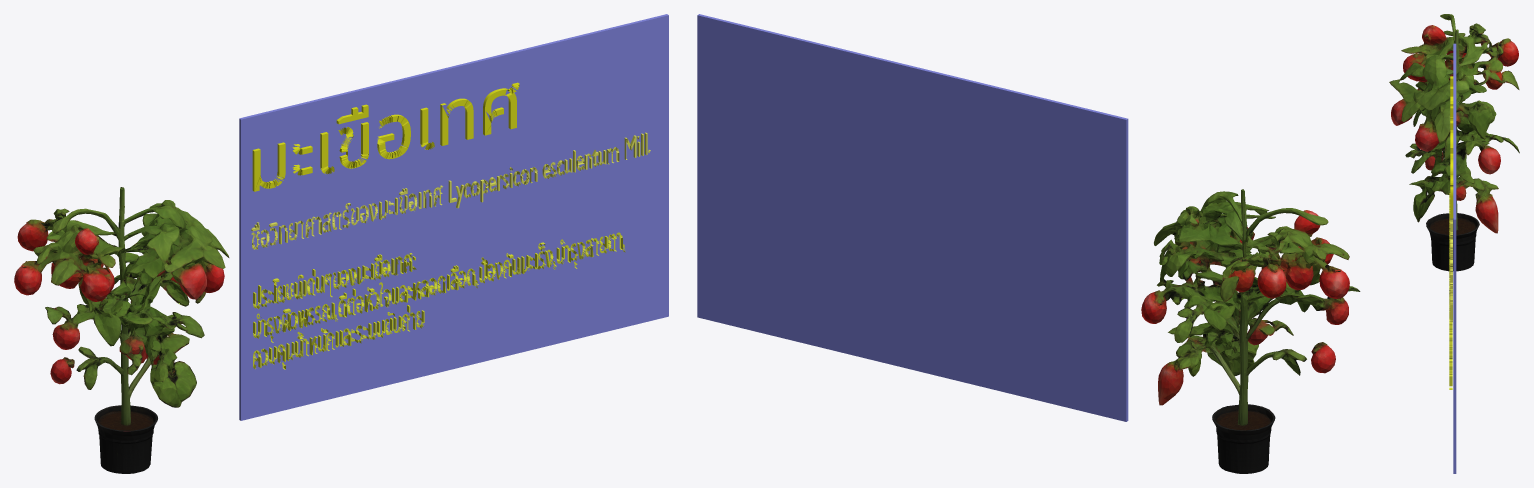
Rendered from plant.glb.
3 views of the same model, side by side, from view 1: azimuth 30°, elevation 25°; view 2: azimuth 150°, elevation 25°; view 3: azimuth 270°, elevation 25° (orthographic). The views are drawn at different scales.
Parts seen in each view (by area): view 1: Plane, world, Text.002, Text, Text.001; view 2: Plane, world; view 3: world, Plane, Text, Text.002, Text.001.
Boxes of the visible parts, x1,y1,x2,y2 form: Plane: [239, 14, 668, 420]; world: [14, 187, 229, 473]; Text.002: [253, 232, 625, 369]; Text: [252, 82, 519, 191]; Text.001: [251, 132, 650, 249]; Plane: [697, 14, 1128, 421]; world: [1141, 189, 1360, 473]; world: [1389, 14, 1519, 271]; Plane: [1453, 43, 1456, 473]; Text: [1450, 76, 1453, 218]; Text.002: [1449, 193, 1452, 389]; Text.001: [1450, 218, 1452, 322].
Bounding box in the file's own units: 2.47 × 1.15 × 0.5099.
Materials: 5 (1 with a texture image).
